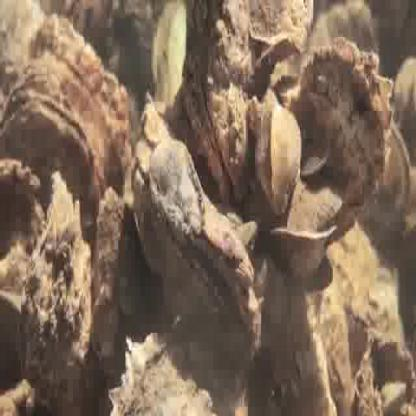Oyster- Indeterminate: (132, 112, 262, 366), (0, 97, 103, 230), (362, 120, 415, 232)
Oyster-Closed: (16, 178, 91, 399), (2, 61, 124, 196), (31, 21, 130, 162), (181, 0, 249, 205), (306, 45, 386, 206), (109, 329, 247, 416), (92, 192, 140, 358), (144, 139, 205, 236), (255, 102, 302, 215), (0, 159, 41, 255), (151, 9, 187, 110), (309, 2, 378, 54), (248, 0, 313, 40)
Oyster-Open: (247, 37, 302, 96)
